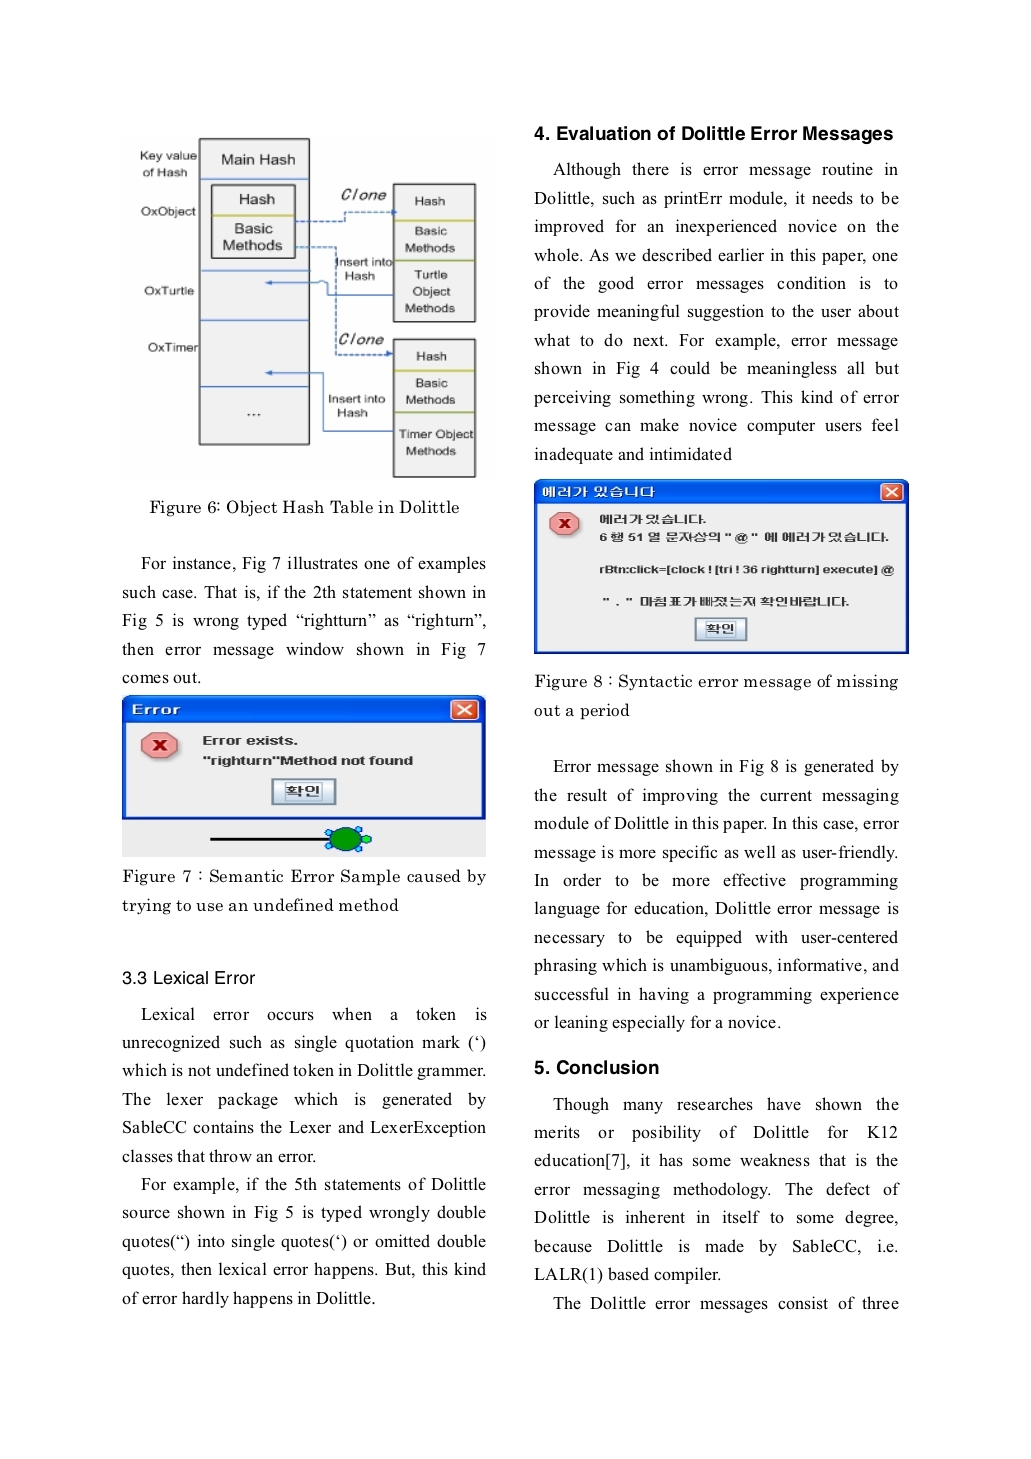figure: (139, 136, 476, 479), (534, 479, 908, 654), (122, 694, 485, 857)
